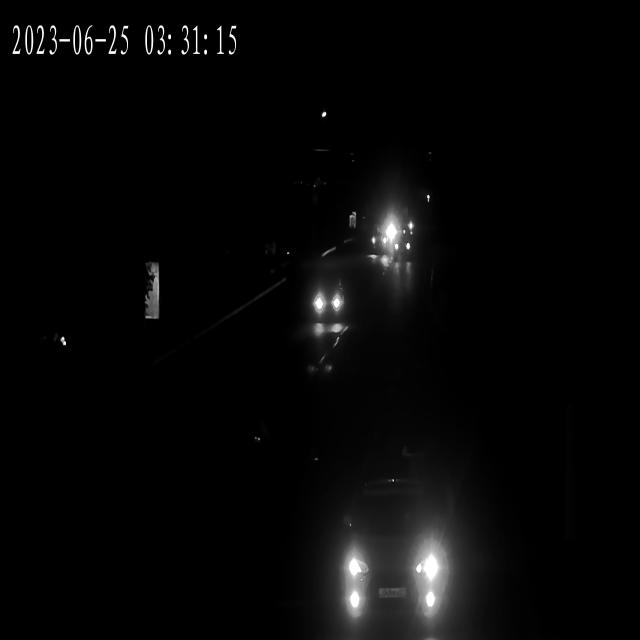Car: (331, 485, 453, 612), (308, 278, 351, 322), (366, 224, 394, 253)
